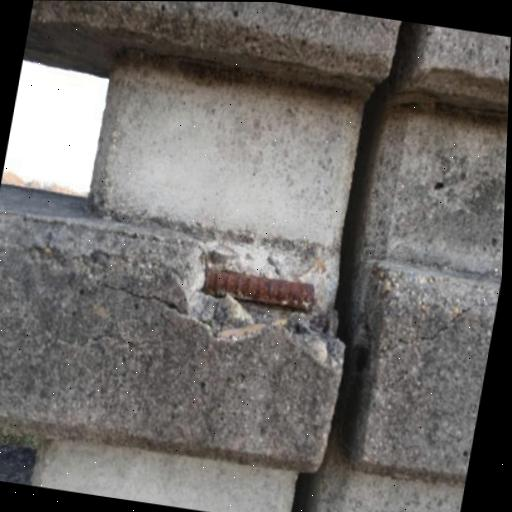exposed_rebar: (202, 269, 315, 312)
